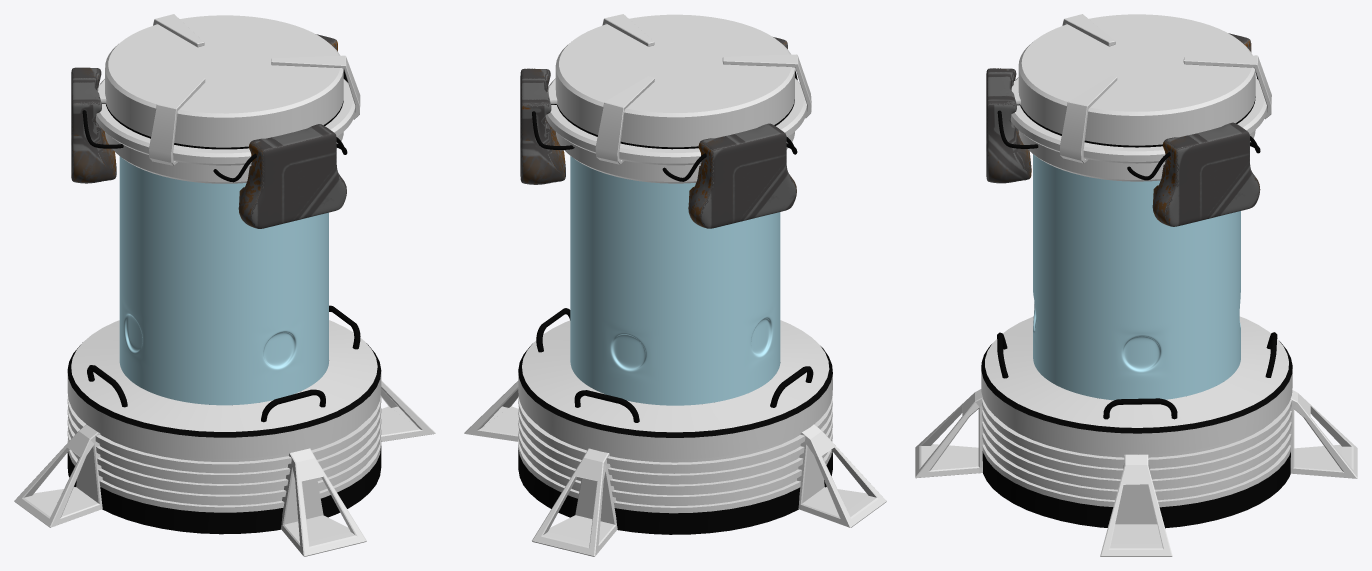
Rendered from Compound Creator & Reducer.fbx.
3 views of the same model, side by side, from view 1: azimuth 30°, elevation 25°; view 2: azimuth 150°, elevation 25°; view 3: azimuth 270°, elevation 25° (orthographic).
Visible parts, largest first — view 1: Glass Container, Base, Cap, Feet, Electrifiers.002, Top Tabs, Electrifiers.001, Handles, Tubing; view 2: Glass Container, Base, Cap, Feet, Electrifiers.001, Electrifiers.003, Top Tabs, Handles, Tubing; view 3: Glass Container, Base, Cap, Feet, Electrifiers.003, Top Tabs, Electrifiers.002, Handles, Tubing.
Boxes of the visible parts, box(x1,y1,x2,y2) form: Glass Container: box(119, 156, 328, 405); Base: box(67, 320, 381, 534); Cap: box(96, 15, 355, 183); Feet: box(14, 380, 435, 556); Electrifiers.002: box(238, 124, 346, 228); Top Tabs: box(149, 14, 360, 165); Electrifiers.001: box(71, 67, 116, 183); Handles: box(87, 305, 360, 422); Tubing: box(82, 69, 347, 182); Glass Container: box(570, 156, 780, 405); Base: box(518, 320, 832, 534); Cap: box(545, 14, 806, 183); Feet: box(464, 381, 886, 556); Electrifiers.001: box(688, 123, 796, 228); Electrifiers.003: box(520, 68, 565, 184); Top Tabs: box(595, 14, 811, 164); Handles: box(536, 308, 813, 422); Tubing: box(532, 70, 797, 181); Glass Container: box(1033, 154, 1240, 400); Base: box(981, 316, 1292, 528); Cap: box(1010, 14, 1266, 181); Feet: box(915, 389, 1357, 556); Electrifiers.003: box(1152, 122, 1260, 226); Top Tabs: box(1060, 14, 1271, 163); Electrifiers.002: box(986, 68, 1031, 183); Handles: box(997, 332, 1277, 419); Tubing: box(997, 72, 1260, 180).
Size of the model in its own units: 425 by 429 by 425.
